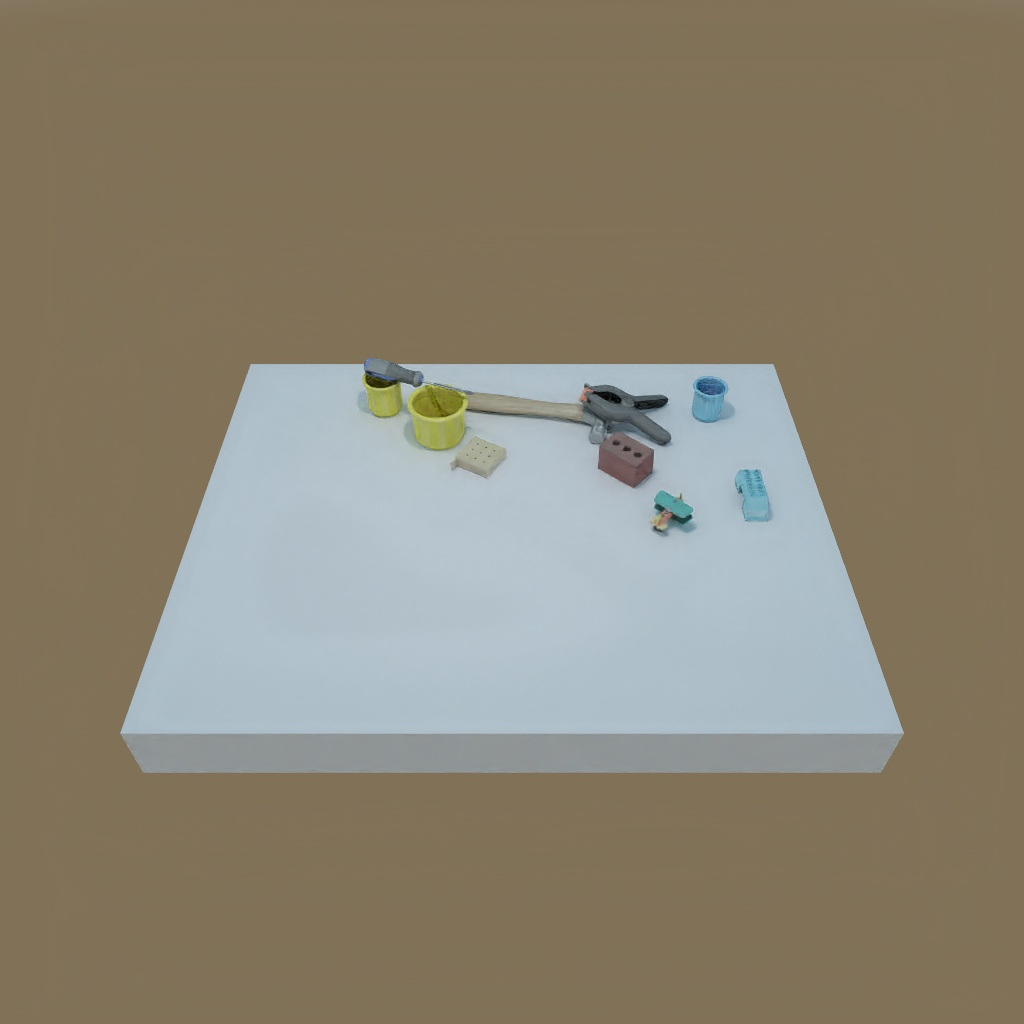hammer: (440, 381, 613, 442)
nine_hole_peg_test: (450, 432, 508, 478)
